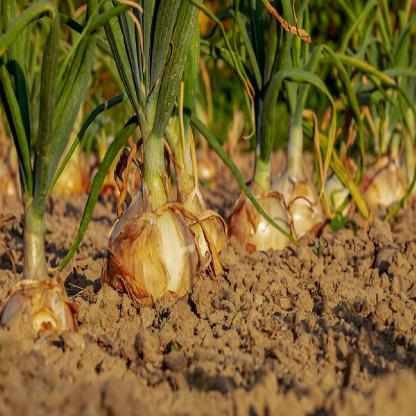onion: (108, 188, 202, 297)
